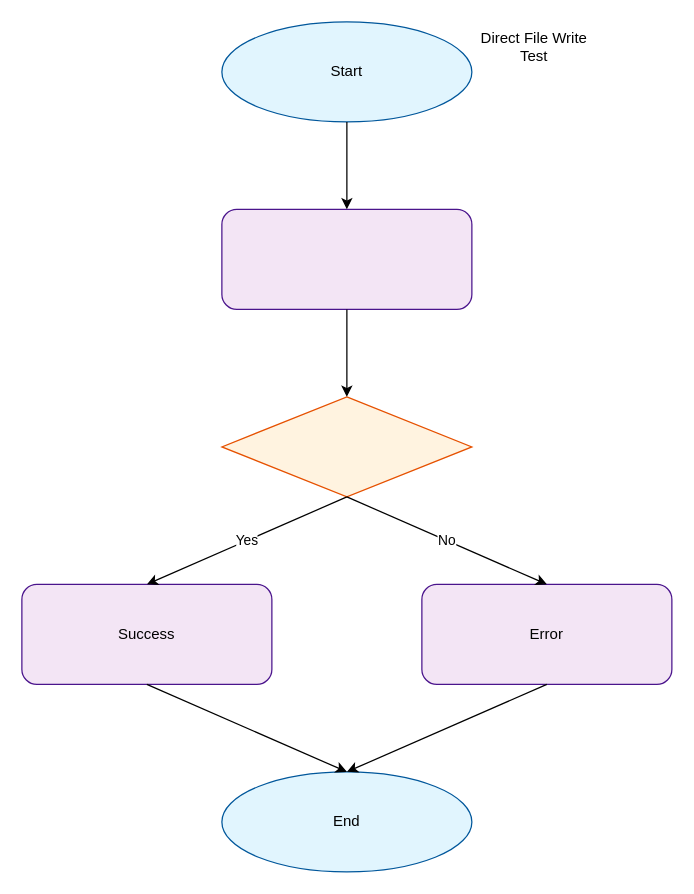
Image size: 694x894. Some labels were removed from this diagram. The centre of each missing label's shape, as x and y in pixels:
"Process Data" belongs at pixel 346 258.
"Valid?" belongs at pixel 346 446.
